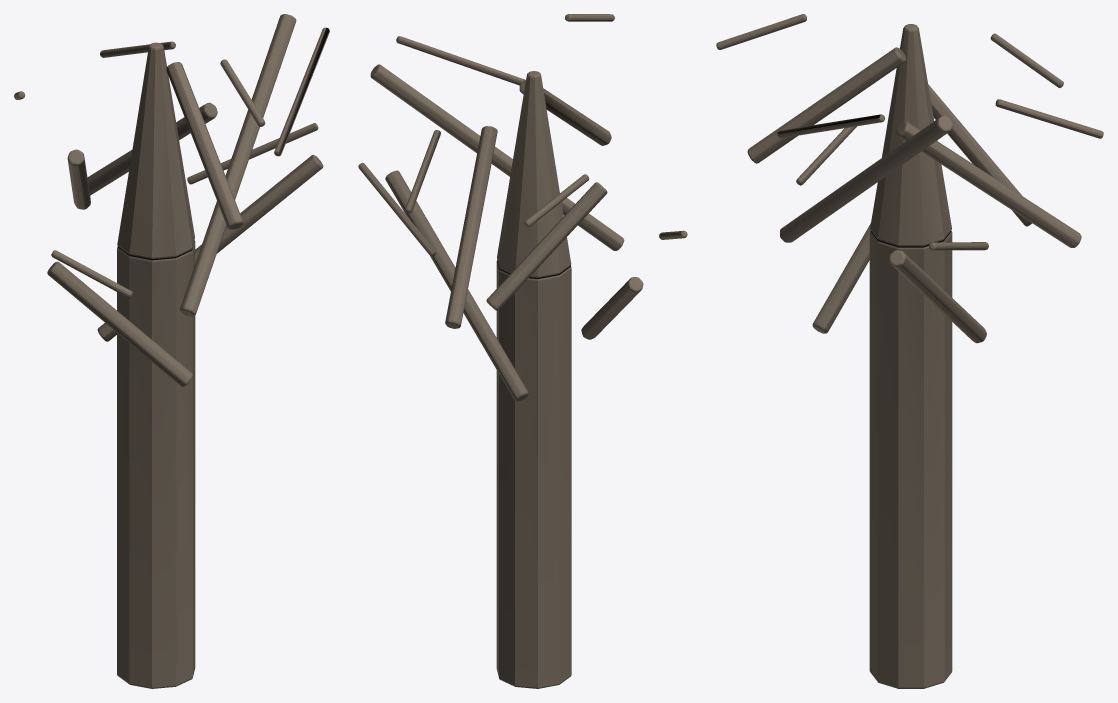
File: deadtree.glb
3 views of the same model, side by side, from view 1: azimuth 30°, elevation 25°; view 2: azimuth 150°, elevation 25°; view 3: azimuth 270°, elevation 25° (orthographic). The views are drawn at different scales.
Visible parts, largest first — view 1: trunk; view 2: trunk; view 3: trunk.
Boxes of the visible parts, x1,y1,x2,y2 form: trunk: (14,14,329,688); trunk: (358,14,687,688); trunk: (716,14,1103,688).
Size of the model in its own units: 1.93 by 3.92 by 2.06.
